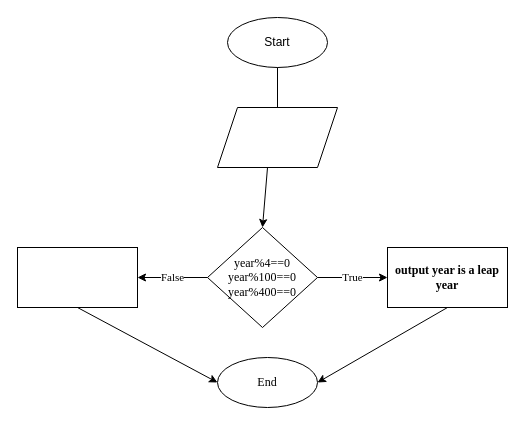
The diagram is 525 pixels wide and 425 high, and some of its shapes have lost their labels. The centre of each missing label's shape, as x and y in pixels:
Enter the Year?: the point at 277,137
output year is a not a leap year: the point at 77,277
